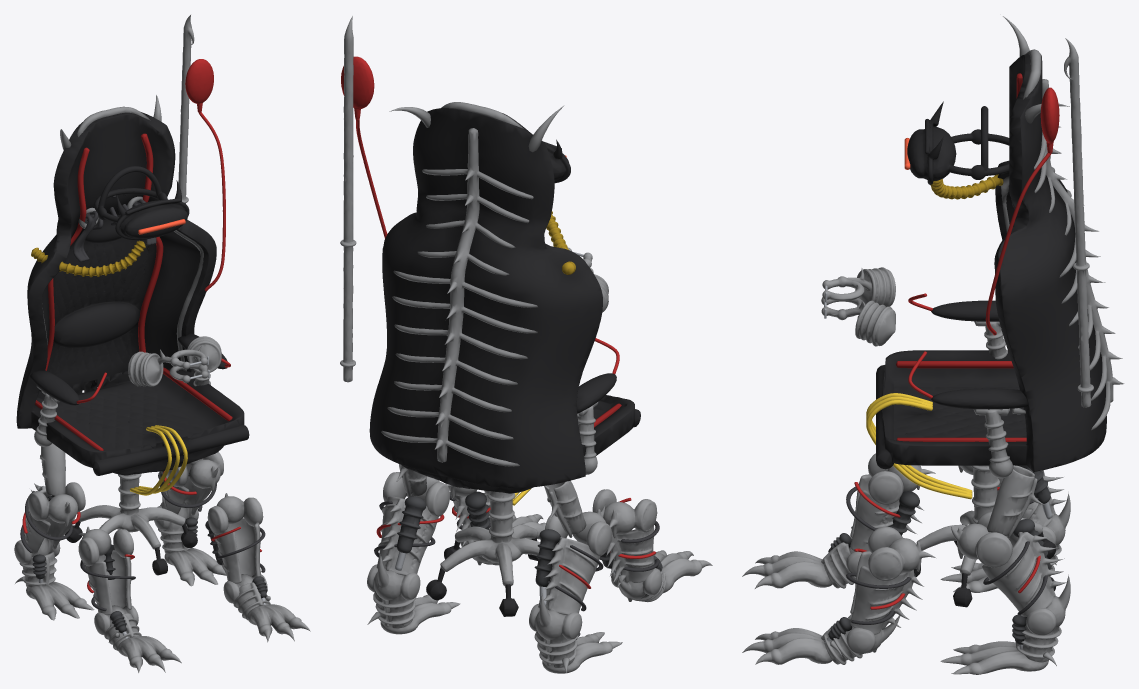
The model's file is gamer-parts.glb.
3 renders of one model, left to right at view 1: azimuth 30°, elevation 25°; view 2: azimuth 150°, elevation 25°; view 3: azimuth 270°, elevation 25°, orthographic. The views are drawn at different scales.
Visible parts, largest first — view 1: spine|shell, skull|headset, spine|stripes, pelvis|base, hem|clamps, forearm.l|tibia, forearm.r|tibia, spine|trim, shin.r|knee, spine|pole, foot.r|toes, forearm.l|knee (+23 smaller); view 2: spine|shell, spine|trim, pelvis|base, spine|pole, shin.r|tibia, shin.l|tibia, forearm.r|knee, forearm.r|tibia, thigh.r|carapace, foot.l|hock, foot.r|hock, shin.r|knee (+17 smaller); view 3: spine|shell, spine|trim, skull|headset, spine|pole, hem|clamps, shin.l|tibia, spine|pads, forearm.l|tibia, forearm.l|knee, foot.l|toes, hand.l|toes, pelvis|base (+21 smaller).
Part boxes in pixels (x1,y1,x2,y2): spine|shell: [16, 112, 249, 475]; skull|headset: [94, 166, 189, 240]; spine|stripes: [35, 133, 232, 450]; pelvis|base: [77, 473, 185, 549]; hem|clamps: [128, 336, 221, 386]; forearm.l|tibia: [213, 518, 261, 583]; forearm.r|tibia: [85, 549, 131, 615]; spine|trim: [42, 95, 203, 371]; shin.r|knee: [28, 482, 85, 526]; spine|pole: [178, 15, 194, 203]; foot.r|toes: [15, 576, 94, 620]; forearm.l|knee: [207, 493, 263, 534]; spine|shell: [369, 108, 640, 493]; spine|trim: [381, 102, 564, 466]; pelvis|base: [440, 491, 540, 586]; spine|pole: [340, 16, 356, 382]; shin.r|tibia: [538, 537, 599, 615]; shin.l|tibia: [376, 496, 438, 575]; forearm.r|knee: [592, 489, 657, 538]; forearm.r|tibia: [606, 526, 654, 587]; thigh.r|carapace: [544, 480, 586, 537]; foot.l|hock: [367, 554, 420, 601]; foot.r|hock: [529, 593, 582, 640]; shin.r|knee: [545, 504, 611, 555]; spine|shell: [876, 54, 1106, 471]; spine|trim: [1001, 16, 1124, 430]; skull|headset: [907, 101, 1009, 184]; spine|pole: [1064, 38, 1093, 407]; hem|clamps: [821, 267, 895, 346]; shin.l|tibia: [982, 532, 1066, 616]; spine|pads: [931, 300, 1027, 409]; forearm.l|tibia: [850, 551, 923, 634]; forearm.l|knee: [868, 526, 935, 581]; foot.l|toes: [940, 641, 1056, 674]; hand.l|toes: [742, 628, 842, 664]; pelvis|base: [916, 465, 1042, 575].
Bounding box in the file's own units: 0.9104 × 2.26 × 1.22.
